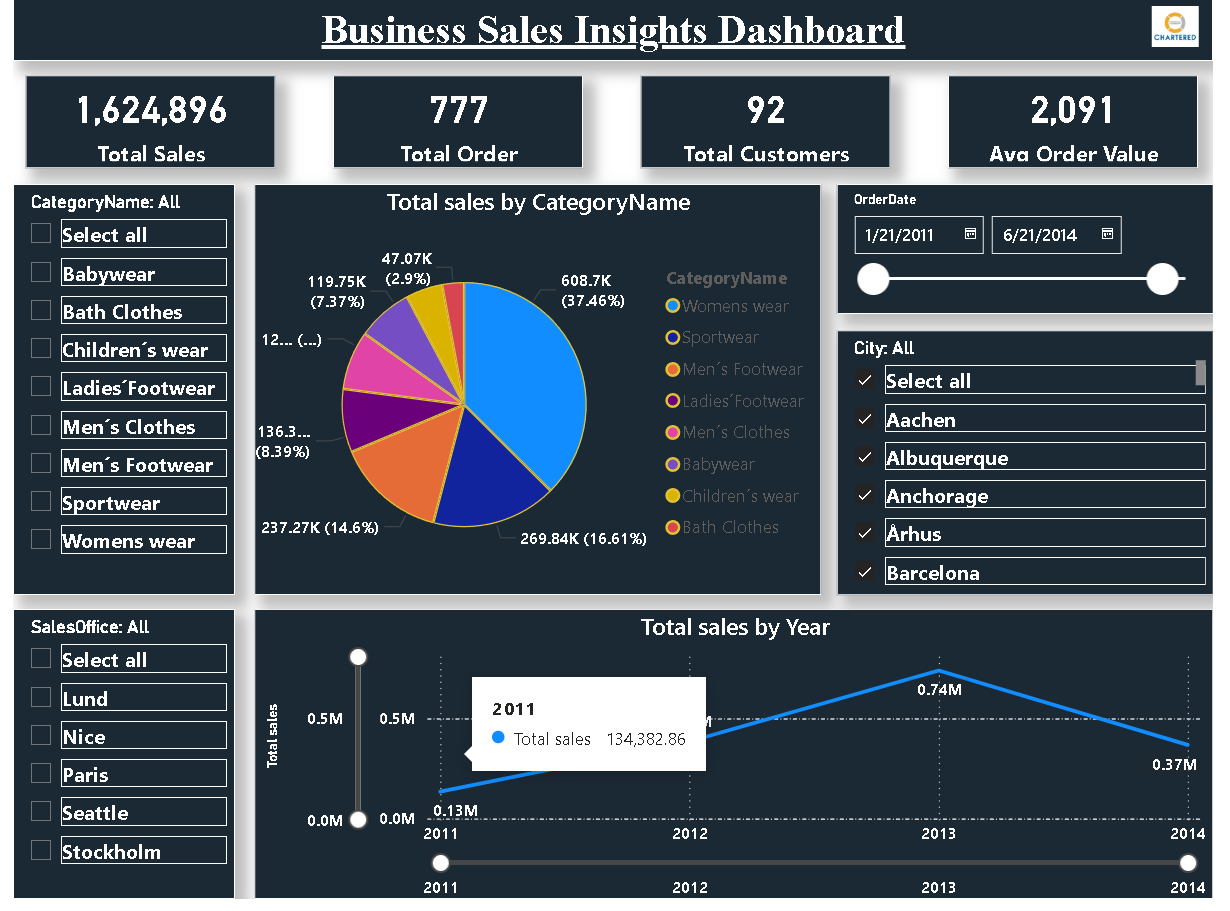

The dashboard page shown, as its layout file describes it:
{"tool":"powerbi","page":{"name":"First Slaes Dashboard 01","canvas":[960,720],"ordinal":1},"visuals":[{"type":"textbox","box":[0,0,960,50],"z":0},{"type":"image","box":[911.2,0,36.2,45],"z":1000},{"type":"card","fields":{"Values":["OrderDetails.Total sales"]},"box":[10,61.2,200,75],"z":2000},{"type":"card","fields":{"Values":["OrderDetails.Total order"]},"box":[255.8,61.2,200,75],"z":3000},{"type":"card","fields":{"Values":["Customers.Total Customers"]},"box":[501.7,61.2,200,75],"z":4000},{"type":"card","fields":{"Values":["OrderDetails.Avg Order Value"]},"box":[747.5,61.2,200,75],"z":5000},{"type":"slicer","fields":{"Values":["Categories.CategoryName"]},"box":[0,148,177.3,328.9],"z":6000},{"type":"slicer","fields":{"Values":["Offices.SalesOffice"]},"box":[0,487.9,177.3,232.3],"z":7000},{"type":"slicer","fields":{"Values":["OrderHeader.OrderDate"]},"box":[659.1,148,300.8,103.9],"z":8000},{"type":"lineChart","fields":{"Y":["OrderDetails.Total sales"],"Category":["OrderHeader.OrderDate.Variation.Date Hierarchy.Year"]},"box":[193.2,487.9,766.7,232.3],"z":9000},{"type":"pieChart","fields":{"Category":["Categories.CategoryName"],"Y":["OrderDetails.Total sales"]},"box":[193.2,148,452.4,328.9],"z":11000},{"type":"slicer","fields":{"Values":["Customers.City"]},"box":[659.1,265.4,300.8,211.6],"z":12000}]}

Visuals, with their boxes in screenshot pixels (x1, y1, x2, y2), scaled from the page's 960x720 canvas onto the 1230x911 screenshot:
textbox: detection(0, 0, 1229, 63)
image: detection(1167, 0, 1214, 57)
card - OrderDetails.Total sales: detection(13, 77, 269, 172)
card - OrderDetails.Total order: detection(328, 77, 584, 172)
card - Customers.Total Customers: detection(643, 77, 899, 172)
card - OrderDetails.Avg Order Value: detection(958, 77, 1214, 172)
slicer - Categories.CategoryName: detection(0, 187, 227, 603)
slicer - Offices.SalesOffice: detection(0, 617, 227, 910)
slicer - OrderHeader.OrderDate: detection(844, 187, 1229, 319)
lineChart - OrderDetails.Total sales x OrderHeader.OrderDate.Variation.Date Hierarchy.Year: detection(248, 617, 1229, 910)
pieChart - Categories.CategoryName x OrderDetails.Total sales: detection(248, 187, 827, 603)
slicer - Customers.City: detection(844, 336, 1229, 604)
